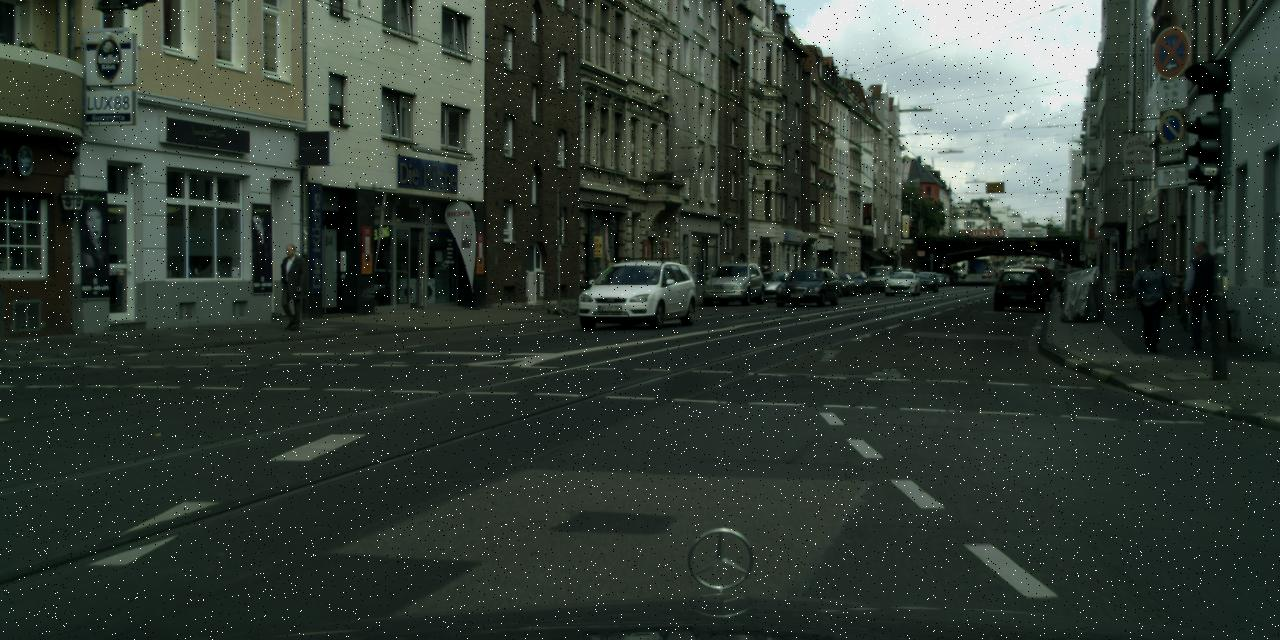ped: (1184, 241, 1226, 343), (1132, 253, 1171, 351), (274, 243, 310, 329)
